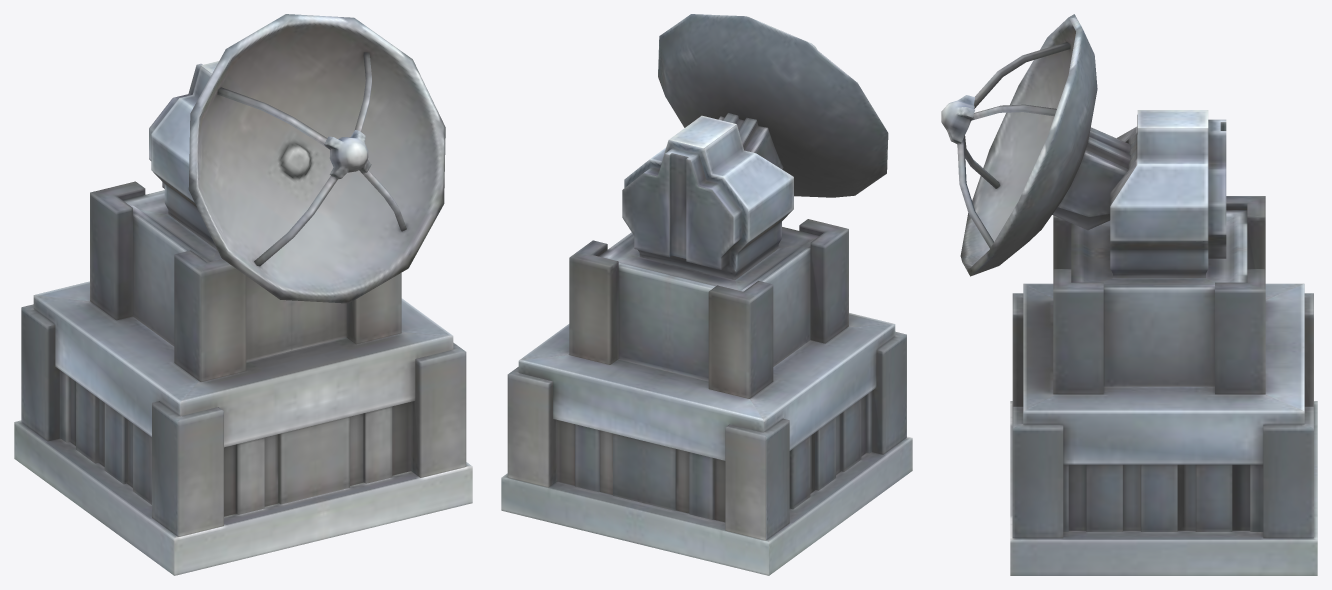
The model's file is SETIProgram.glb.
The picture shows the model from 3 angles, left to right: view 1: azimuth 30°, elevation 25°; view 2: azimuth 150°, elevation 25°; view 3: azimuth 270°, elevation 25°; orthographic projection. The views are drawn at different scales.
Parts seen in each view (by area): view 1: Cube.004; view 2: Cube.004; view 3: Cube.004.
Part boxes in pixels (x1=…): Cube.004: x1=14, y1=14, x2=472, y2=575; Cube.004: x1=501, y1=14, x2=912, y2=575; Cube.004: x1=941, y1=14, x2=1317, y2=575.
Size of the model in its own units: 3.83 by 6.12 by 4.37.
Materials: 1 (1 with a texture image).
